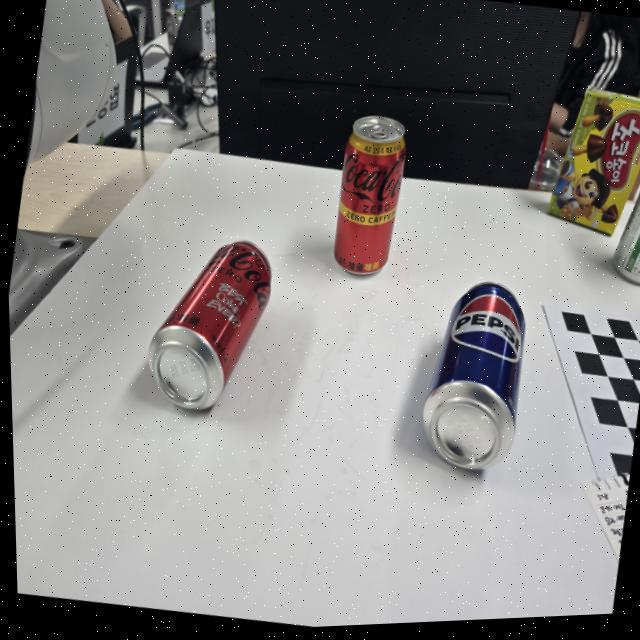can_coke_decaf: (332, 115, 408, 279)
can_coke_zero: (150, 239, 275, 413)
can_pepsi: (423, 282, 529, 472)
